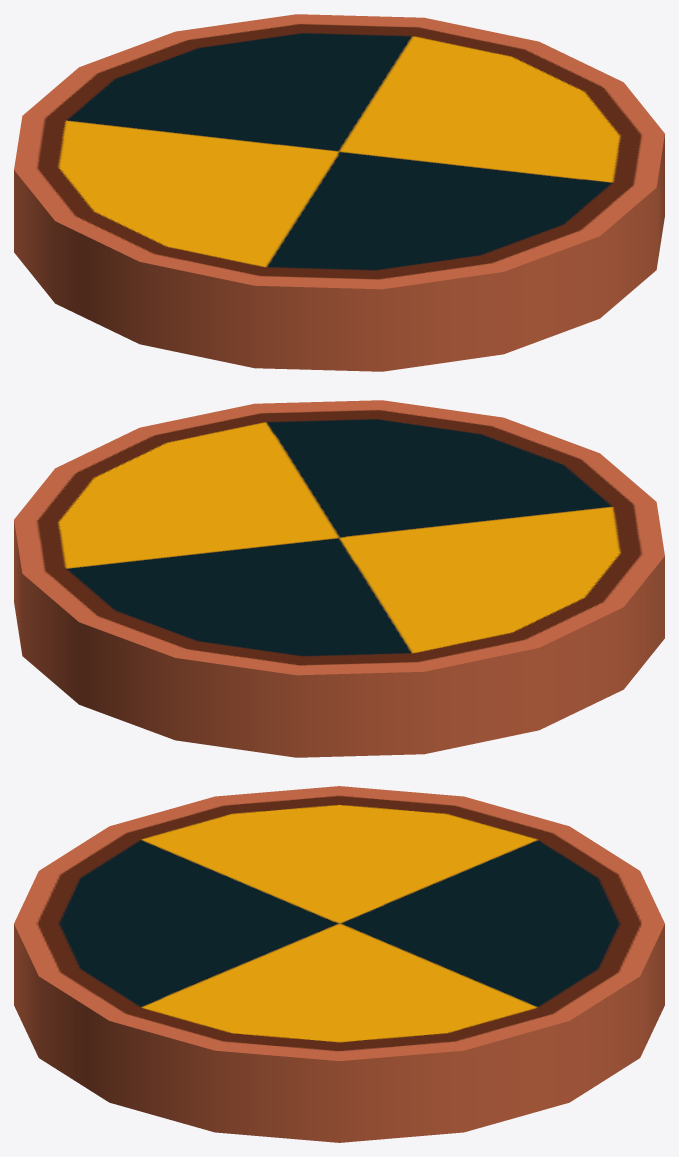
Rendered from puzzle1_btn4_bottom.fbx.
3 views of the same model, one above another, from view 1: azimuth 30°, elevation 25°; view 2: azimuth 150°, elevation 25°; view 3: azimuth 270°, elevation 25° (orthographic).
Parts seen in each view (by area): view 1: levelBottom; view 2: levelBottom; view 3: levelBottom.
Part boxes in pixels (x1,y1,x2,y2): levelBottom: [14, 14, 664, 371]; levelBottom: [14, 400, 664, 757]; levelBottom: [14, 786, 664, 1142].
Bounding box in the file's own units: 2.93 × 0.4059 × 2.93.
